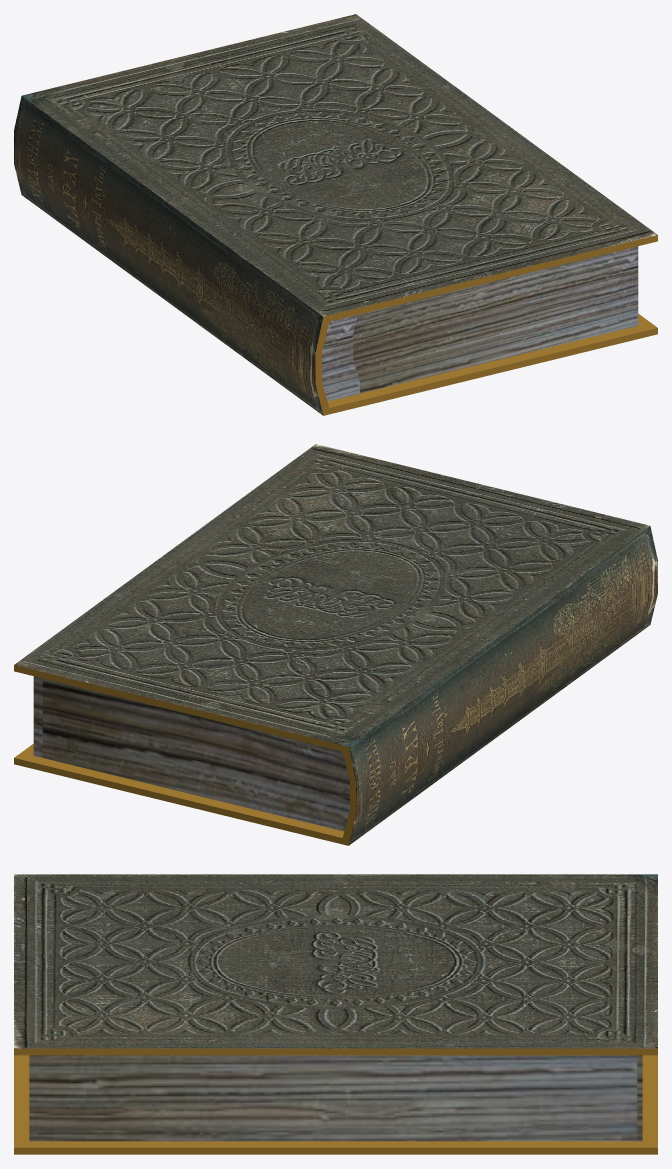
The model's file is book.fbx.
3 views of the same model, one above another, from view 1: azimuth 30°, elevation 25°; view 2: azimuth 150°, elevation 25°; view 3: azimuth 270°, elevation 25° (orthographic). The views are drawn at different scales.
Visible parts, largest first — view 1: Book_Closed; view 2: Book_Closed; view 3: Book_Closed.
Boxes of the visible parts, left/top/right/bottom form: Book_Closed: left=14, top=14, right=657, bottom=415; Book_Closed: left=14, top=444, right=657, bottom=845; Book_Closed: left=14, top=874, right=657, bottom=1154.
Bounding box in the file's own units: 14.2 × 3.94 × 21.7.
